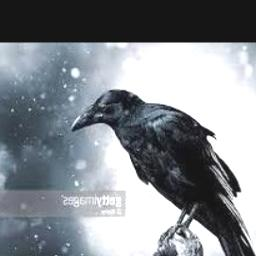Crow: (72, 88, 256, 256)
